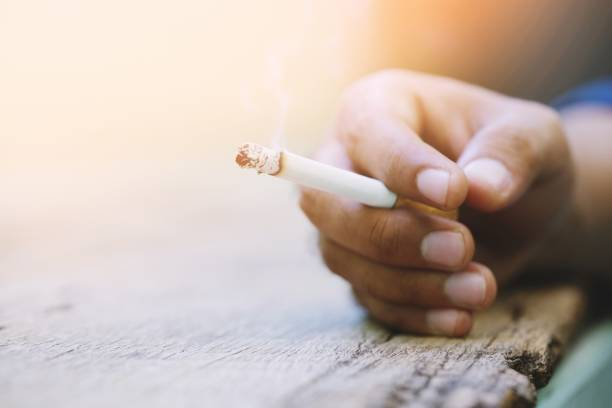cigarette: (236, 141, 460, 219)
